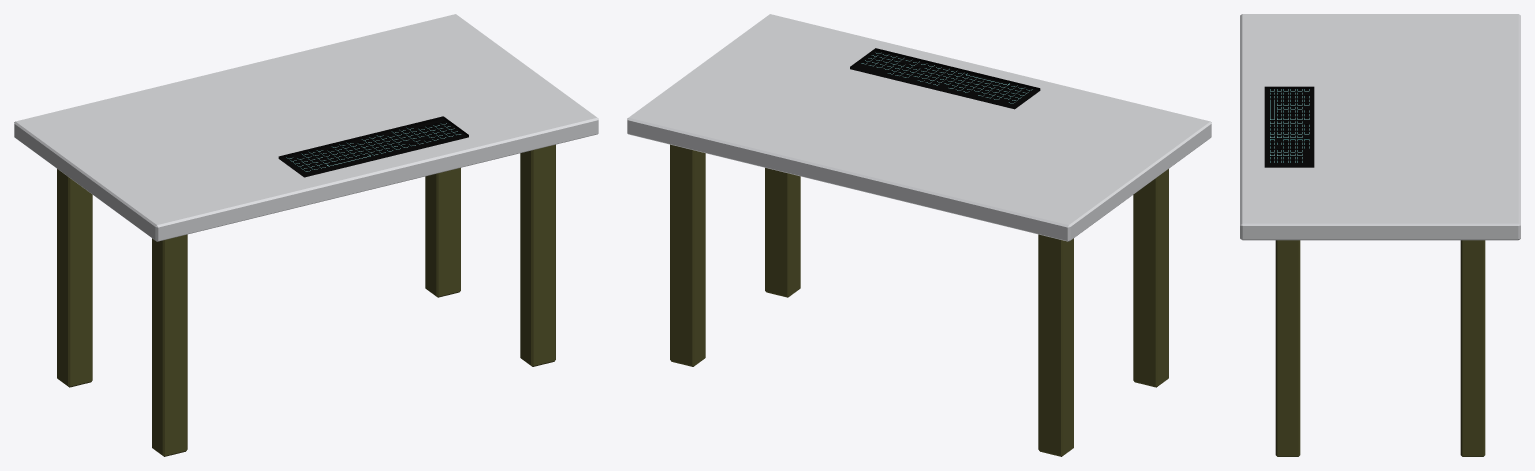
Rendered from deskPlaceholder.fbx.
3 views of the same model, side by side, from view 1: azimuth 30°, elevation 25°; view 2: azimuth 150°, elevation 25°; view 3: azimuth 270°, elevation 25° (orthographic). The views are drawn at different scales.
Visible parts, largest first — view 1: table, keyboard; view 2: table, keyboard; view 3: table, keyboard.
Boxes of the visible parts, x1,y1,x2,y2 form: table: (14, 14, 598, 456); keyboard: (278, 116, 468, 177); table: (627, 14, 1211, 456); keyboard: (850, 48, 1040, 109); table: (1240, 14, 1520, 456); keyboard: (1264, 86, 1314, 167).
Bounding box in the file's own units: 528 × 290 × 297.
